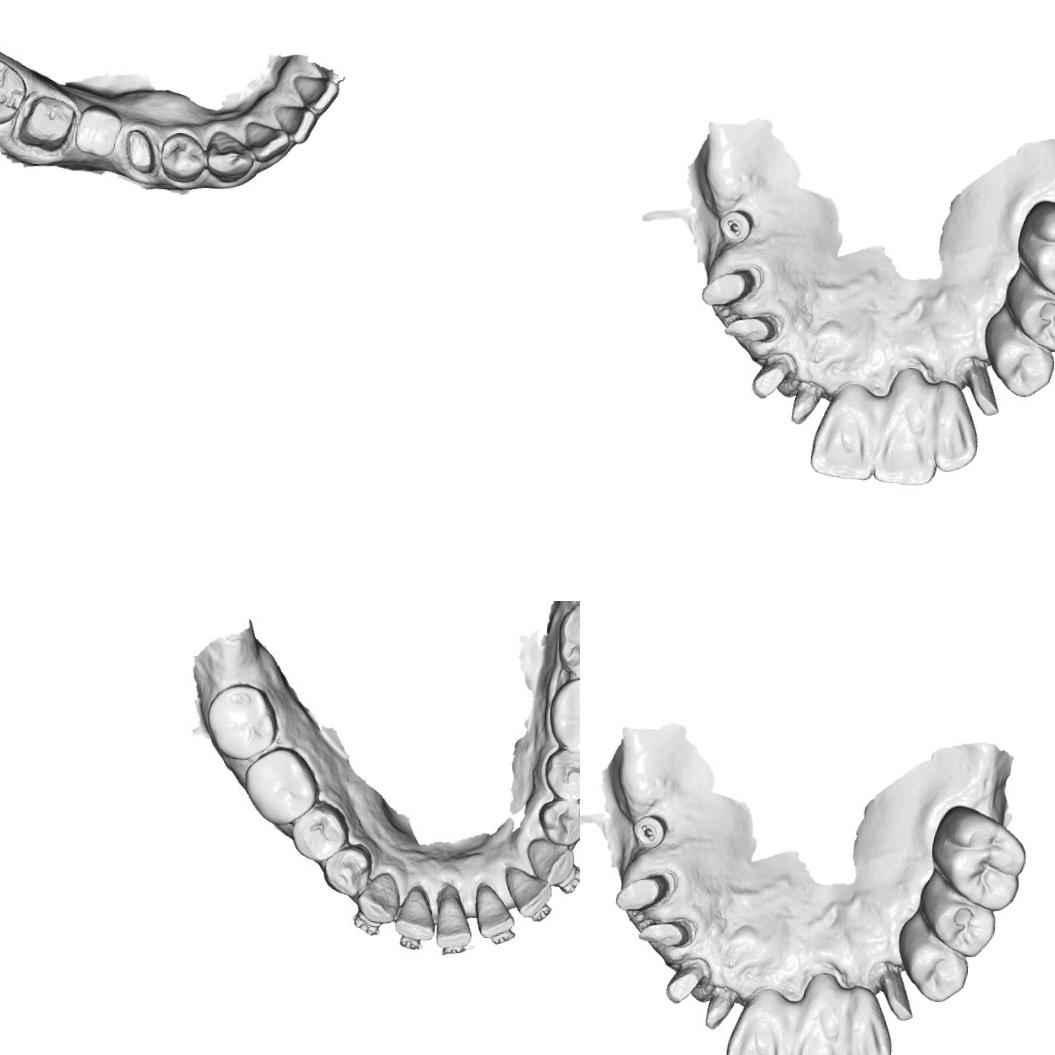canine: (523, 836, 578, 890), (203, 128, 255, 185), (354, 872, 400, 928)
crown: (14, 88, 76, 156), (697, 262, 760, 312), (611, 867, 674, 917), (874, 960, 920, 1024), (960, 355, 1006, 418), (720, 308, 777, 350), (634, 914, 691, 956), (119, 125, 160, 179), (784, 374, 822, 425), (749, 354, 791, 400), (663, 960, 705, 1006), (698, 980, 736, 1030)
implant_minus: (629, 810, 667, 852), (715, 205, 753, 246)
incisor: (869, 369, 943, 494), (803, 382, 880, 483), (783, 974, 857, 1055), (717, 987, 794, 1055), (931, 381, 984, 475), (844, 986, 897, 1055), (498, 863, 555, 922), (430, 887, 478, 952), (393, 886, 437, 944), (474, 882, 515, 943), (240, 120, 290, 164), (270, 102, 318, 146), (290, 74, 340, 115)
molar: (924, 801, 1026, 909), (240, 744, 321, 830), (204, 677, 280, 763), (1009, 196, 1055, 304), (68, 101, 125, 159), (545, 674, 580, 756), (0, 51, 29, 129), (556, 601, 580, 679)
premolar: (917, 868, 1003, 956), (893, 915, 978, 1002), (979, 310, 1055, 397), (1003, 263, 1055, 351), (288, 800, 348, 865), (317, 837, 375, 899), (157, 130, 207, 184), (536, 796, 580, 846), (541, 748, 580, 802)
